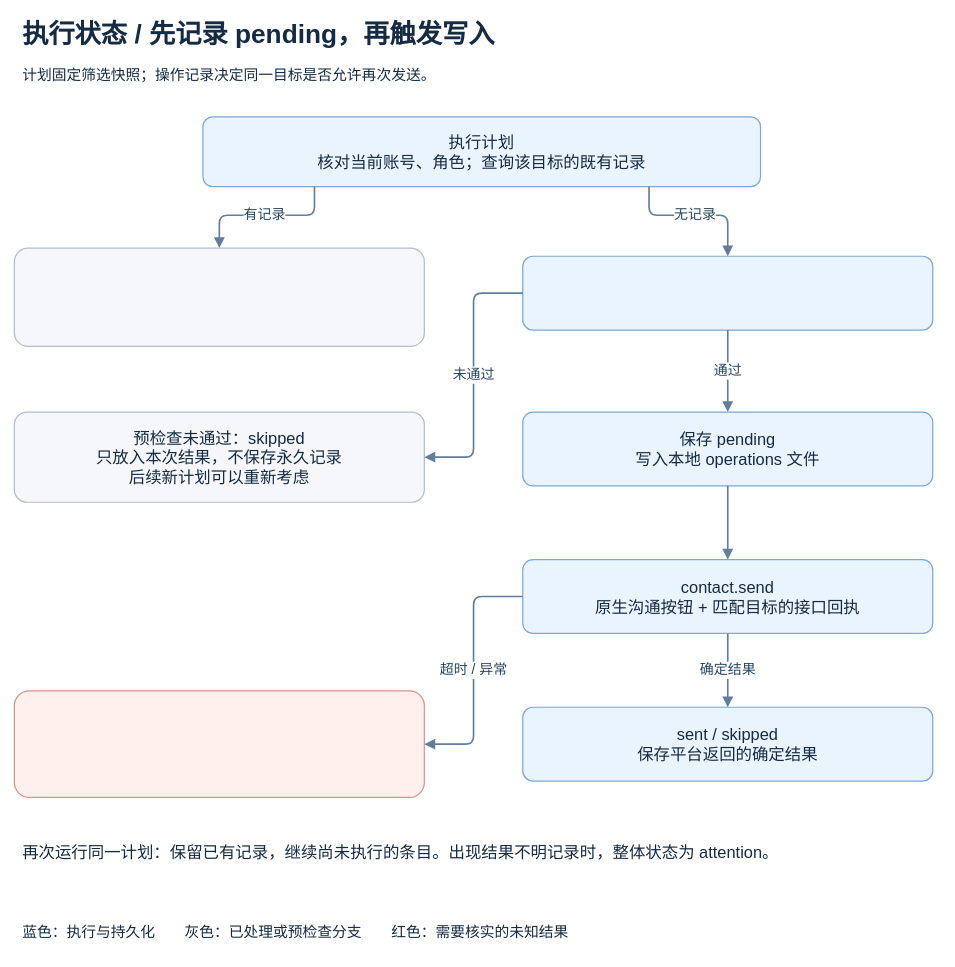
This 955x967 diagram has some shape labels left out. Here are the shapes that lost their labels. From the top down, the centre of each, then its label:
At point 219,297: "已有记录 sent / skipped / indeterminate 保留 pending → indeterminate；不重发".
At point 727,292: "没有记录 → contact.prepare 复核目标、活跃度与沟通状态".
At point 219,744: "indeterminate：结果不明 保存失败线索，停止本批新发送 人工核实，禁止自动重发".
